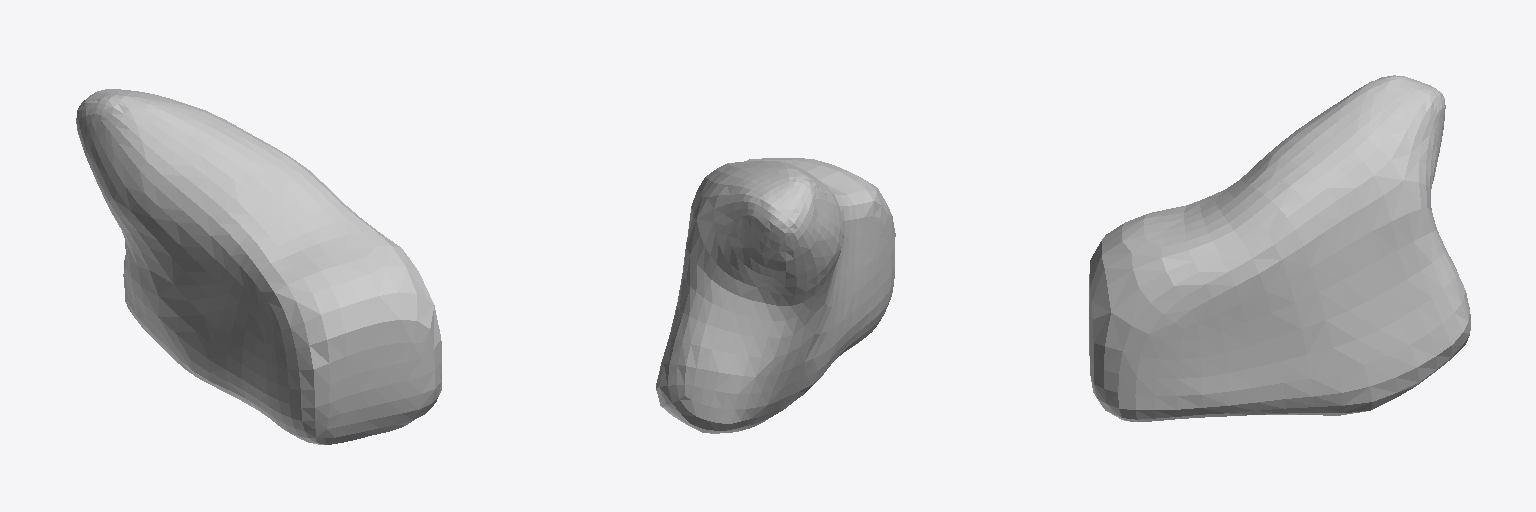
The model's file is Unity HD Render Pipeline (Metallic Standard).obj.
The picture shows the model from 3 angles: view 1: azimuth 30°, elevation 25°; view 2: azimuth 150°, elevation 25°; view 3: azimuth 270°, elevation 25°; orthographic projection.
Parts seen in each view (by area): view 1: PM3D_Cube3D1; view 2: PM3D_Cube3D1; view 3: PM3D_Cube3D1.
Part boxes in pixels (x1,y1,x2,y2): PM3D_Cube3D1: (76, 89, 441, 444); PM3D_Cube3D1: (656, 158, 895, 433); PM3D_Cube3D1: (1089, 75, 1470, 421).
Size of the model in its own units: 2.75 by 3.36 by 4.21.